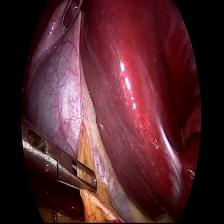Grasper: (21, 113, 103, 200), (60, 1, 86, 39)
